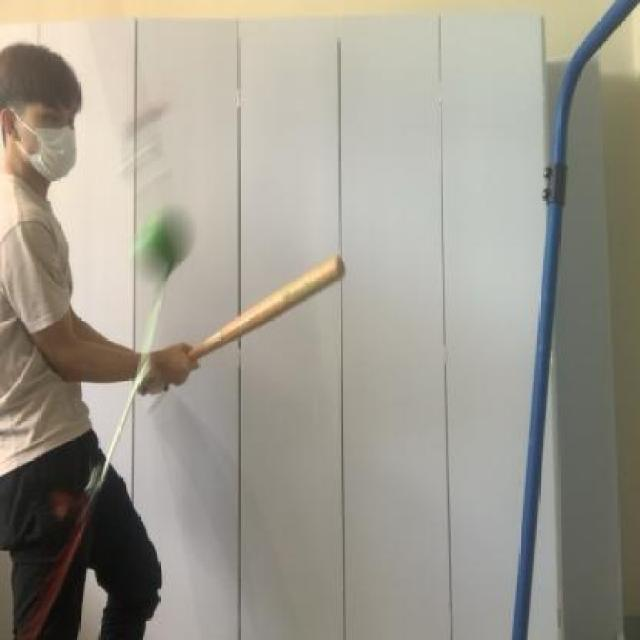baseball: (128, 192, 198, 279)
